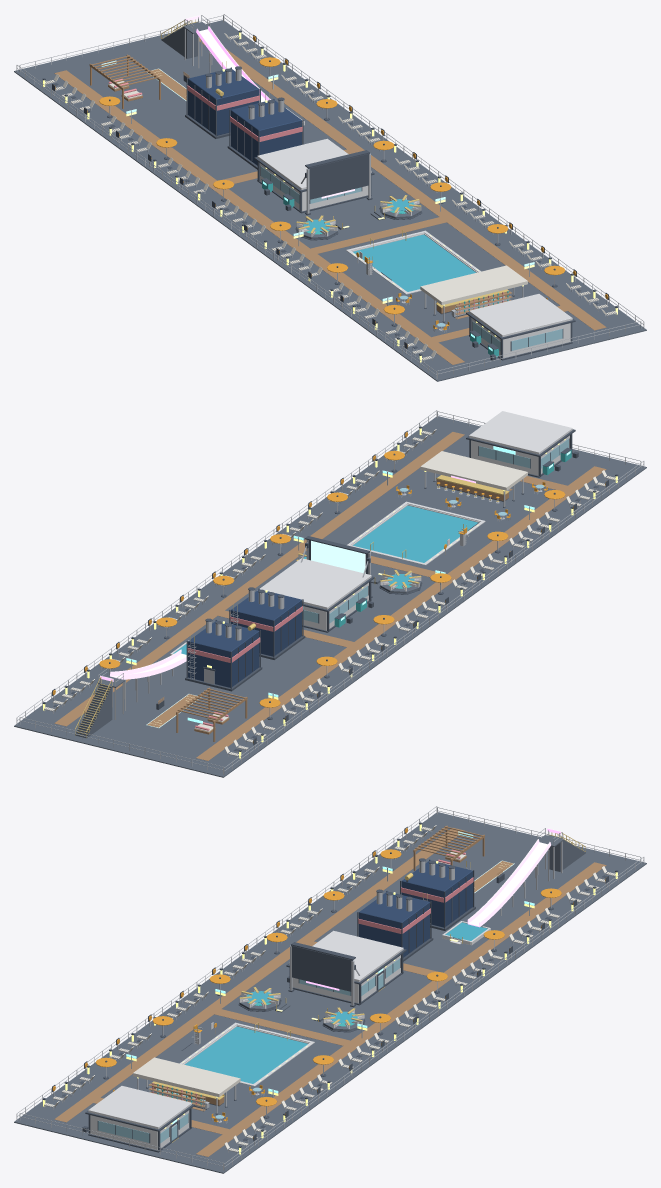
File: pool-deck.glb
3 renders of one model, top to bottom at view 1: azimuth 30°, elevation 25°; view 2: azimuth 150°, elevation 25°; view 3: azimuth 330°, elevation 25°, orthographic.
Visible parts, largest first — view 1: CM_DECK, CM_WOOD, CM_BULKHEAD, CM_STEEL, CM_TRIM, CM_CANVAS, CM_HULL, CM_WATER, CM_ORANGE, CM_GLASS, CM_NEON_PINK, CM_CORAL (+2 smaller); view 2: CM_DECK, CM_WOOD, CM_BULKHEAD, CM_STEEL, CM_CANVAS, CM_HULL, CM_TRIM, CM_WATER, CM_ORANGE, CM_GLASS, CM_BRASS, CM_SCREEN (+3 smaller); view 3: CM_DECK, CM_WOOD, CM_BULKHEAD, CM_STEEL, CM_TRIM, CM_CANVAS, CM_HULL, CM_WATER, CM_ORANGE, CM_NEON_PINK, CM_GLASS, CM_NEON_AMBER (+2 smaller).
Boxes of the visible parts, x1,y1,x2,y2 form: CM_DECK: [14, 20, 646, 381]; CM_WOOD: [54, 37, 606, 364]; CM_BULKHEAD: [257, 108, 572, 358]; CM_STEEL: [16, 14, 644, 379]; CM_TRIM: [42, 30, 618, 360]; CM_CANVAS: [45, 33, 616, 359]; CM_HULL: [188, 68, 301, 165]; CM_WATER: [303, 199, 475, 291]; CM_ORANGE: [54, 36, 608, 347]; CM_GLASS: [261, 166, 562, 351]; CM_NEON_PINK: [186, 15, 354, 198]; CM_CORAL: [108, 78, 503, 313]; CM_DECK: [14, 416, 646, 777]; CM_WOOD: [54, 432, 606, 760]; CM_BULKHEAD: [170, 411, 572, 655]; CM_STEEL: [16, 410, 644, 775]; CM_CANVAS: [44, 429, 615, 755]; CM_HULL: [188, 589, 301, 687]; CM_TRIM: [42, 426, 618, 751]; CM_WATER: [173, 505, 477, 654]; CM_ORANGE: [52, 432, 606, 743]; CM_GLASS: [302, 439, 568, 623]; CM_BRASS: [75, 475, 509, 737]; CM_SCREEN: [311, 540, 365, 573]; CM_DECK: [14, 812, 646, 1173]; CM_WOOD: [54, 825, 606, 1156]; CM_BULKHEAD: [88, 921, 490, 1150]; CM_STEEL: [16, 806, 644, 1171]; CM_TRIM: [42, 822, 618, 1152]; CM_CANVAS: [44, 825, 615, 1151]; CM_HULL: [359, 860, 472, 957]; CM_WATER: [185, 922, 487, 1083]; CM_ORANGE: [52, 828, 606, 1139]; CM_NEON_PINK: [306, 828, 560, 990]; CM_GLASS: [98, 958, 399, 1143]; CM_NEON_AMBER: [43, 824, 617, 1154].
Size of the model in its own units: 34 by 9.68 by 119.
